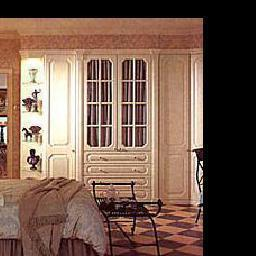Armario: (78, 54, 154, 185)
